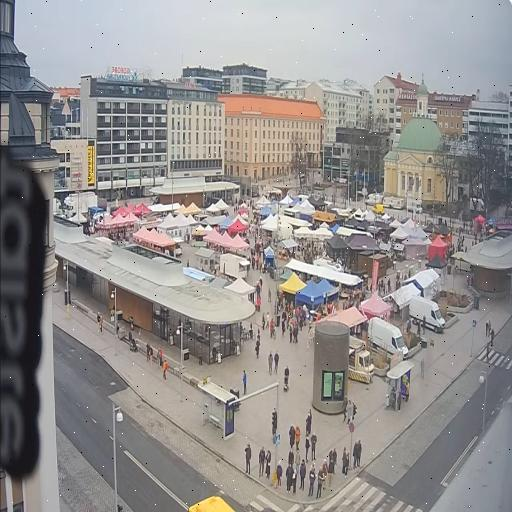bus: (188, 496, 233, 511)
delivery: (367, 317, 407, 359), (408, 296, 444, 332), (348, 336, 373, 383)
